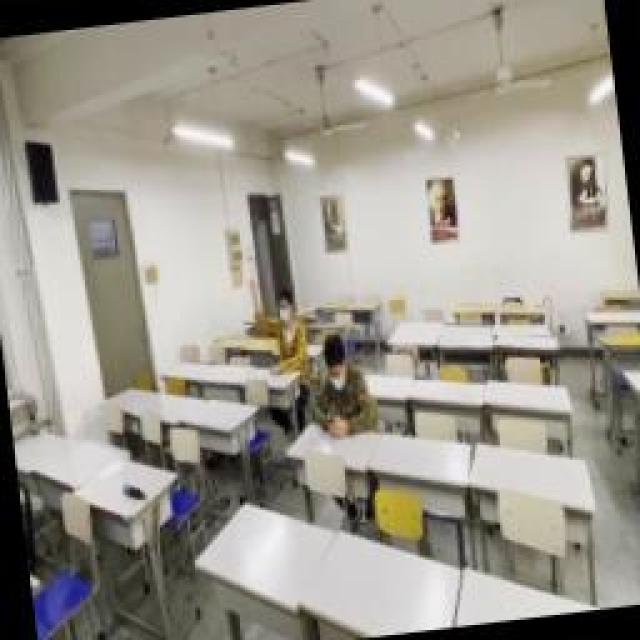phone: (308, 332, 372, 438)
study: (245, 262, 313, 372)
